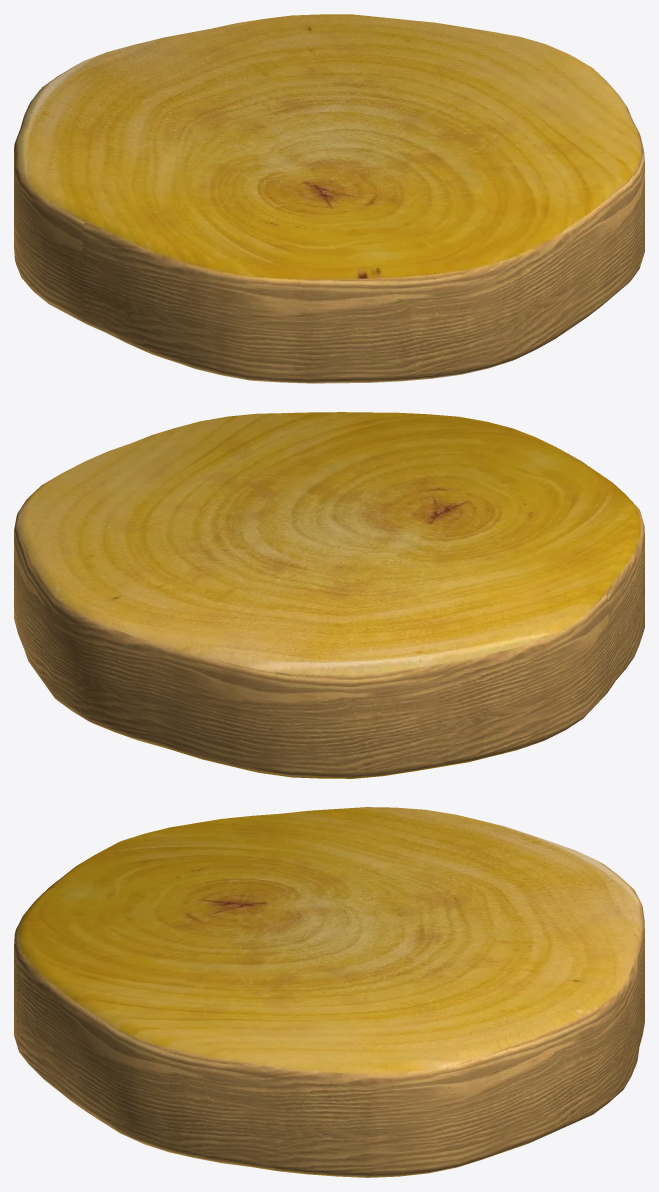
Rendered from tamarind_board.glb.
The picture shows the model from 3 angles, top to bottom: view 1: azimuth 30°, elevation 25°; view 2: azimuth 150°, elevation 25°; view 3: azimuth 270°, elevation 25°; orthographic projection.
Parts seen in each view (by area): view 1: tamarind_board; view 2: tamarind_board; view 3: tamarind_board.
Boxes of the visible parts, bbox=[...] form: tamarind_board: bbox=[14, 14, 644, 383]; tamarind_board: bbox=[14, 412, 644, 778]; tamarind_board: bbox=[14, 807, 644, 1177].
Bounding box in the file's own units: 0.384 × 0.075 × 0.3817.
1 material, 1 textured.
